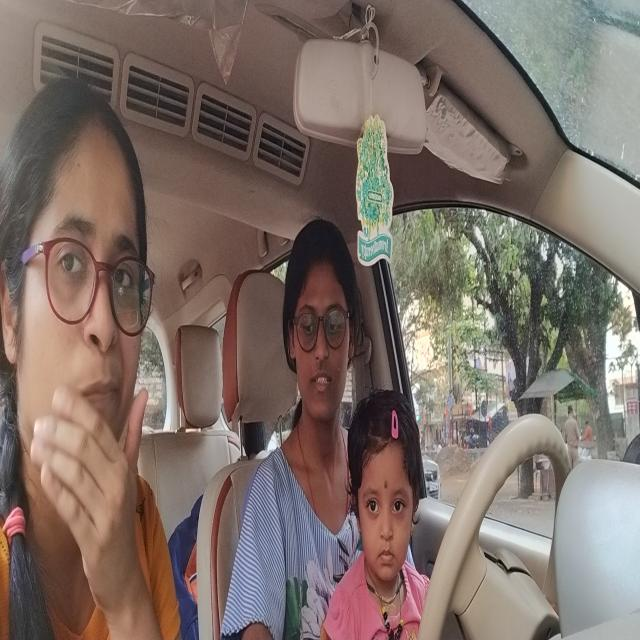child: (348, 391, 425, 580)
person: (0, 69, 167, 528), (275, 216, 358, 434)
